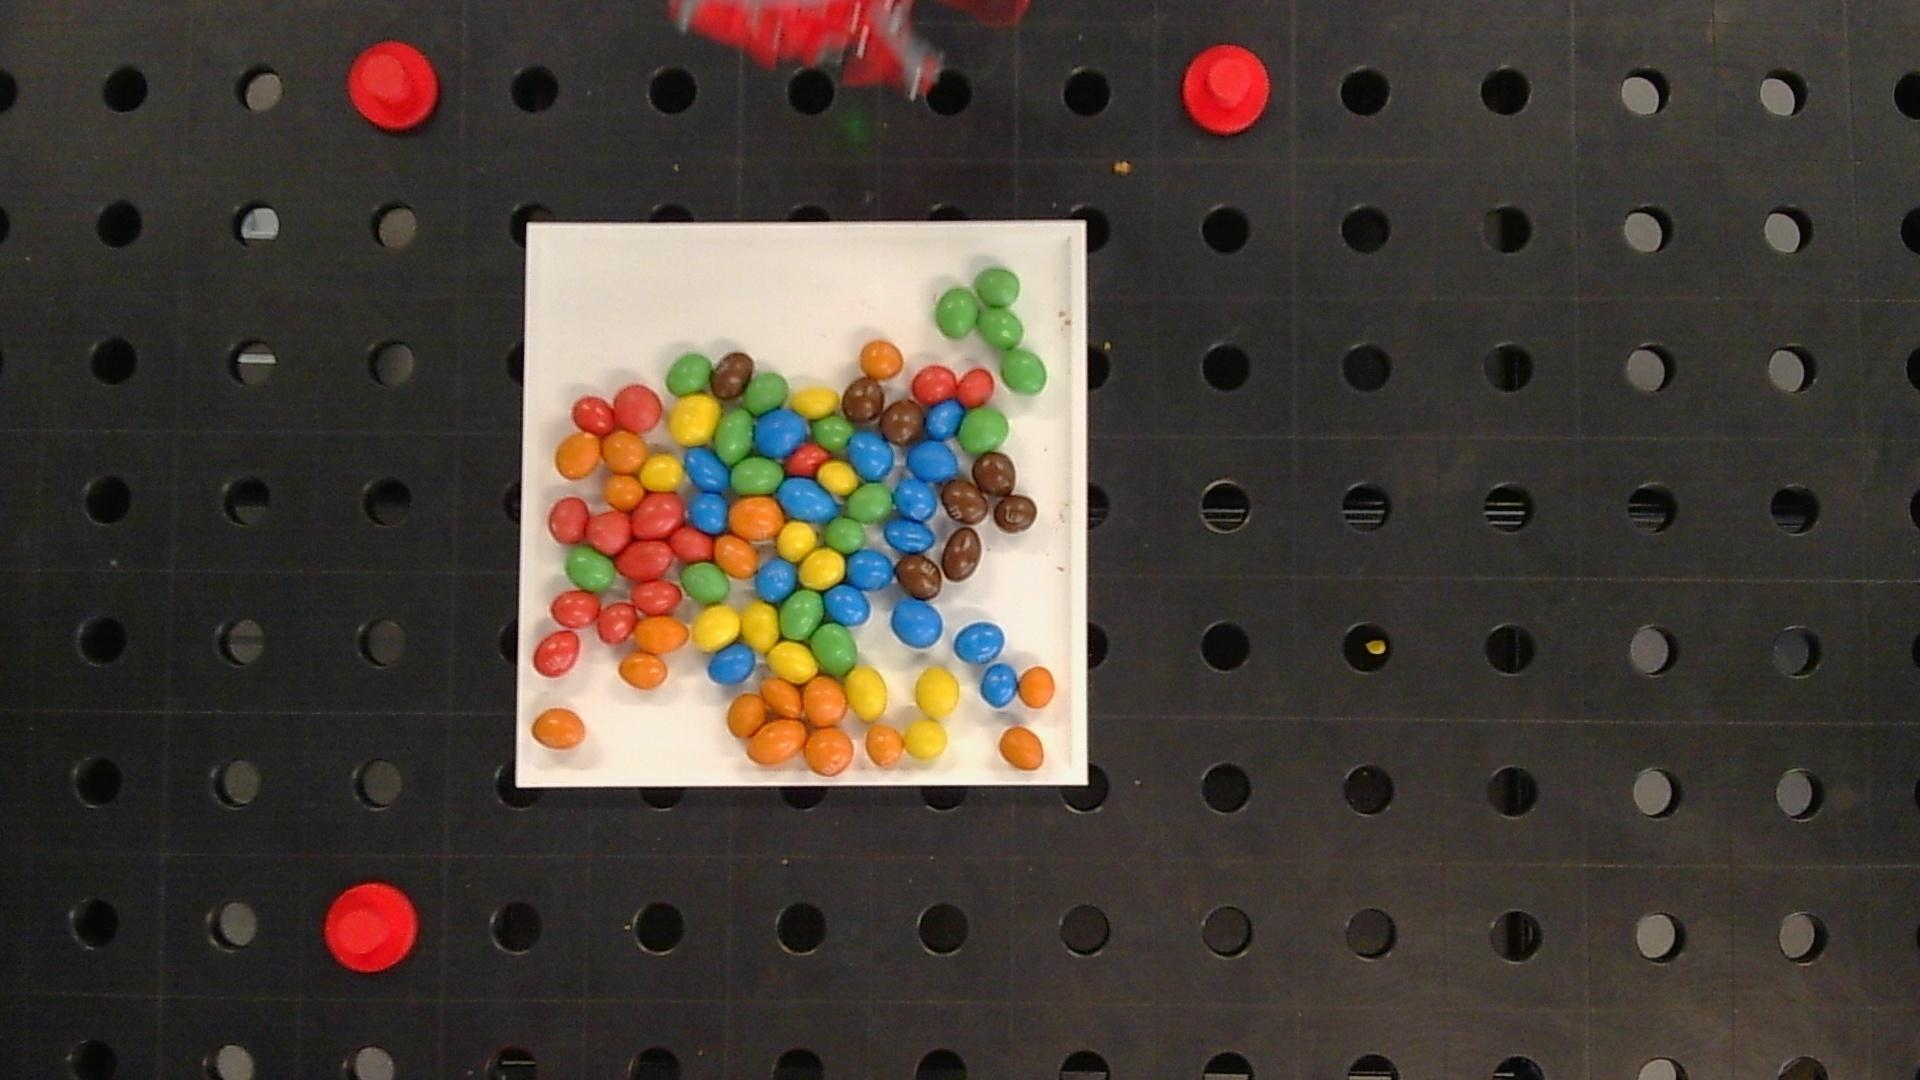blue: (778, 476, 837, 521), (891, 599, 943, 647), (756, 410, 808, 456), (955, 621, 1005, 663), (907, 440, 959, 481), (848, 433, 893, 479), (707, 644, 756, 684), (847, 550, 894, 591), (894, 477, 938, 521), (684, 448, 728, 491), (824, 585, 870, 625), (756, 559, 796, 601), (885, 518, 934, 553), (980, 665, 1018, 707), (688, 492, 728, 531), (926, 400, 964, 439)
brown: (942, 529, 981, 582), (942, 479, 988, 524), (897, 555, 942, 599), (711, 352, 753, 398), (881, 401, 923, 443), (973, 452, 1014, 496), (843, 378, 884, 421), (993, 495, 1036, 533)
green: (812, 624, 857, 674), (564, 547, 616, 591), (935, 287, 978, 338), (779, 591, 823, 640), (1001, 349, 1047, 394), (715, 407, 753, 462), (682, 563, 731, 604), (963, 410, 1009, 452), (732, 456, 783, 493), (666, 353, 711, 394), (847, 484, 894, 522), (975, 268, 1019, 307), (980, 309, 1025, 348), (745, 373, 789, 413), (811, 414, 853, 450), (828, 517, 865, 553)
orange: (746, 719, 806, 765), (804, 728, 855, 774), (731, 497, 783, 538), (531, 708, 585, 748), (803, 678, 847, 725), (556, 433, 601, 477), (1000, 727, 1044, 770), (634, 616, 688, 651), (715, 534, 758, 578), (620, 653, 667, 690), (603, 431, 646, 471), (858, 340, 903, 378), (865, 725, 905, 766), (728, 694, 766, 736), (761, 678, 802, 716), (1019, 666, 1055, 707), (604, 475, 644, 509)
red: (632, 495, 684, 537), (617, 541, 671, 580), (615, 385, 661, 430), (534, 632, 580, 675), (632, 580, 683, 616), (588, 510, 630, 553), (549, 497, 588, 542), (911, 365, 957, 402), (551, 591, 599, 626), (596, 604, 636, 644), (574, 396, 613, 434), (670, 526, 713, 560), (957, 368, 994, 405), (785, 444, 829, 475)
yellow: (670, 394, 720, 444), (845, 667, 887, 721), (915, 667, 959, 717), (692, 605, 740, 650), (769, 642, 818, 682), (800, 549, 845, 589), (741, 603, 778, 650), (903, 720, 947, 758), (777, 522, 819, 560), (641, 454, 683, 489), (819, 462, 858, 496), (791, 388, 839, 415)
